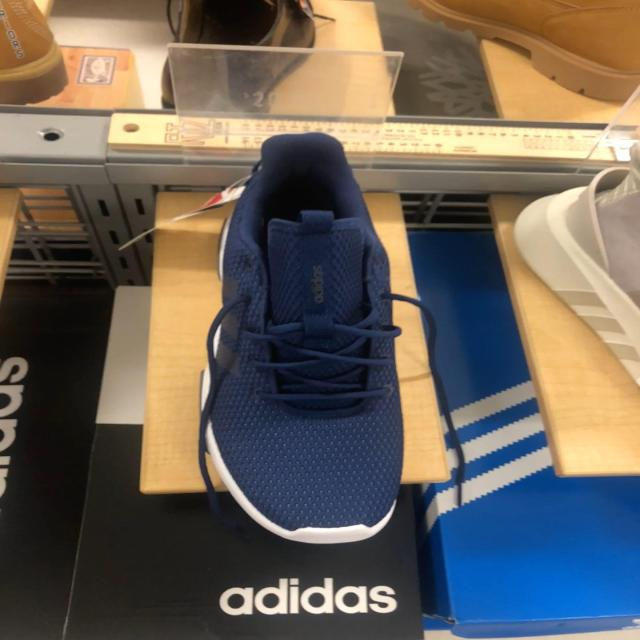shoe: (199, 137, 407, 547)
